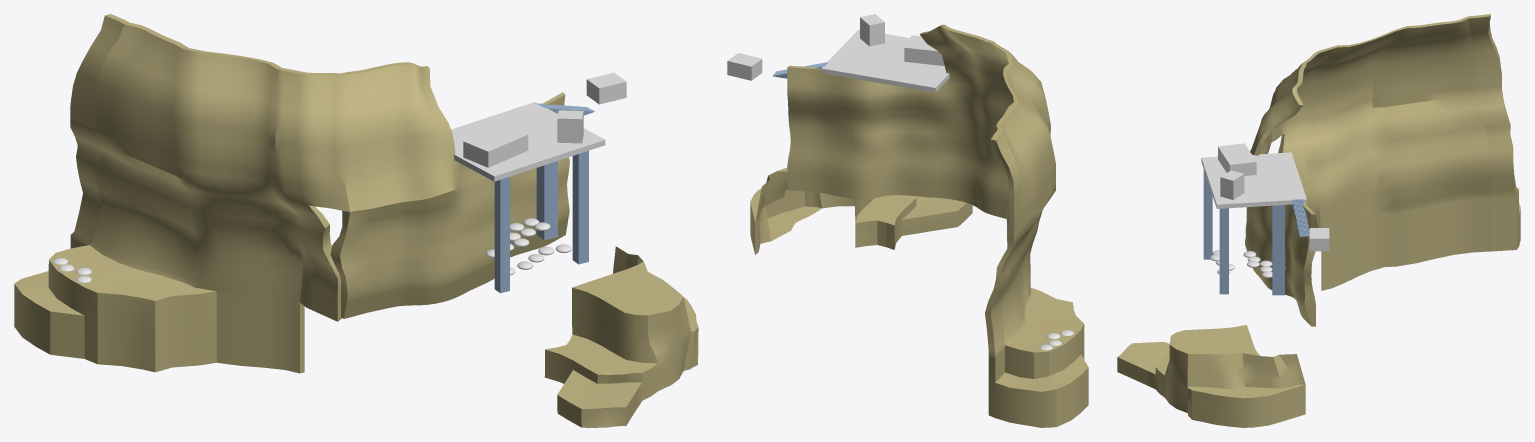
Rendered from round two.fbx.
3 renders of one model, left to right at view 1: azimuth 30°, elevation 25°; view 2: azimuth 150°, elevation 25°; view 3: azimuth 270°, elevation 25°, orthographic. The views are drawn at different scales.
Parts seen in each view (by area): view 1: Cube.001, Plane.007, Cube.088, Cube.033, Cube.032, Cube.035, Cube.092, Cube.090; view 2: Cube.001, Plane.007, Cube.088, Cube.092, Cube.090, Cube.095; view 3: Cube.001, Plane.007, Cube.088, Cube.035, Cube.033, Cube.092, Cube.032.
Part boxes in pixels (x1,y1,x2,y2): Cube.001: (14,14,569,373); Plane.007: (544,246,698,427); Cube.088: (451,102,605,181); Cube.033: (572,150,588,264); Cube.032: (494,177,509,293); Cube.035: (536,161,557,240); Cube.092: (463,124,528,159); Cube.090: (586,72,626,96); Cube.001: (787,24,1088,427); Plane.007: (750,167,972,254); Cube.088: (821,29,949,92); Cube.092: (904,35,942,58); Cube.090: (727,53,762,73); Cube.095: (860,14,884,32); Cube.001: (1245,14,1520,326); Plane.007: (1117,325,1305,427); Cube.088: (1201,152,1306,208); Cube.035: (1272,205,1284,295); Cube.033: (1219,208,1228,294); Cube.092: (1218,143,1256,170); Cube.032: (1203,169,1212,259).
Bounding box in the file's own units: 19872 × 11578 × 17059.
